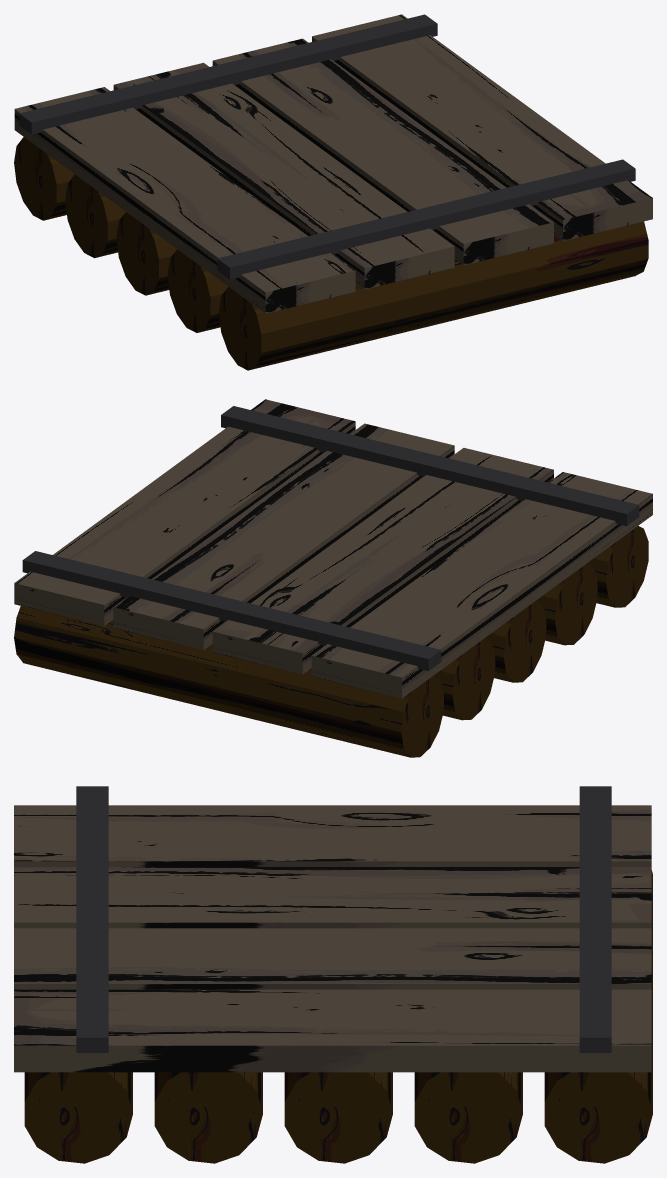
File: деревянная платформа.fbx
3 renders of one model, top to bottom at view 1: azimuth 30°, elevation 25°; view 2: azimuth 150°, elevation 25°; view 3: azimuth 270°, elevation 25°, orthographic. The views are drawn at different scales.
Parts seen in each view (by area): view 1: доски; view 2: доски; view 3: доски.
Part boxes in pixels (bbox=[...]): доски: bbox=[14, 14, 652, 370]; доски: bbox=[14, 399, 652, 757]; доски: bbox=[14, 786, 652, 1163].
Bounding box in the file's own units: 557 × 135 × 598.
